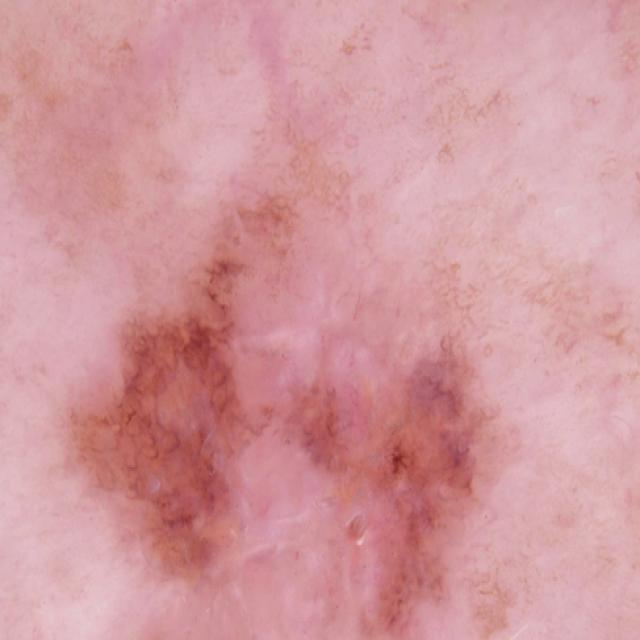Melanoma: (73, 252, 326, 640), (354, 376, 517, 640)
